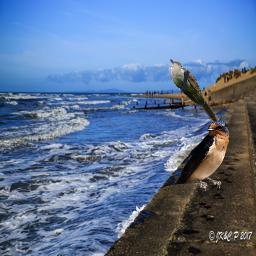Cuckoo: (170, 59, 219, 123)
Swallow: (174, 120, 229, 191)
